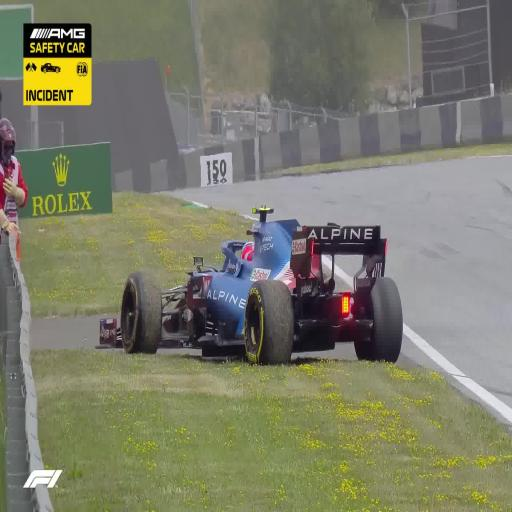f1_car: (113, 208, 402, 364)
